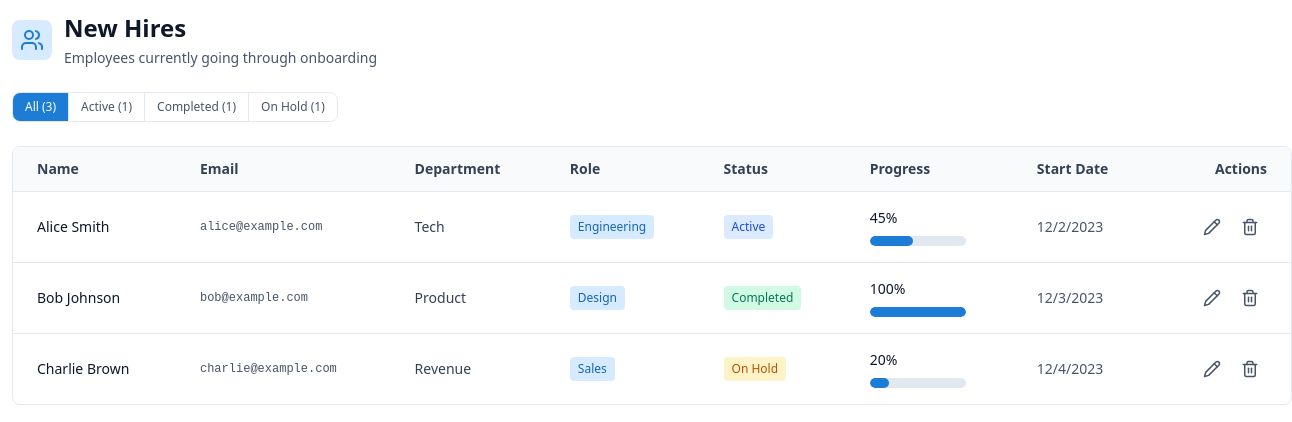
it: NewHiresPanel › Filtering › filters to only active instances when Active filter clicked
The width and height of the screenshot is (1292, 422).
Click the button "Active (1)".
click(106, 107)  # box [68, 93, 144, 121]
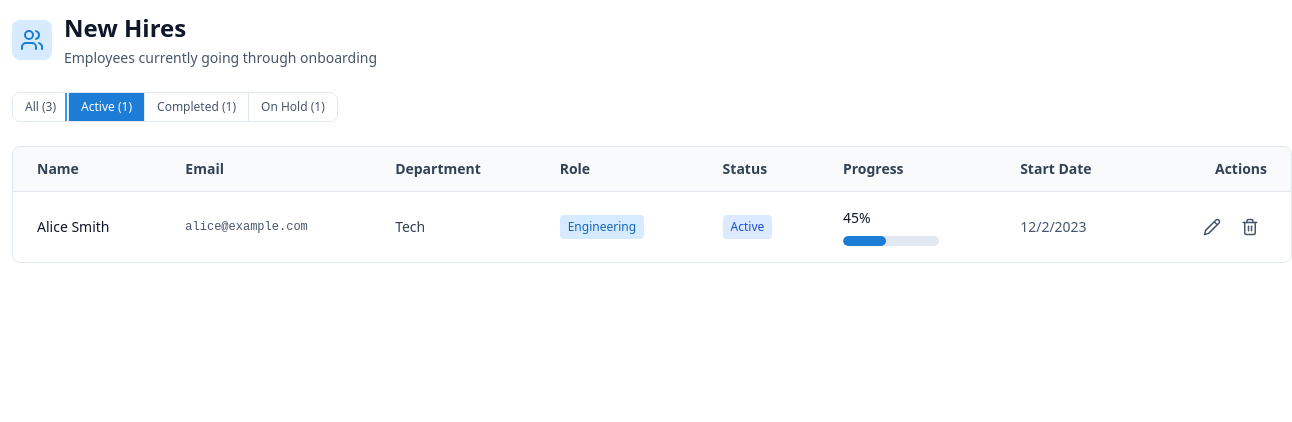
Expected: the text "Alice Smith" is shown, [37, 217, 110, 236]
Now the text "Bob Johnson" is gone
Now the text "Charlie Brown" is gone
